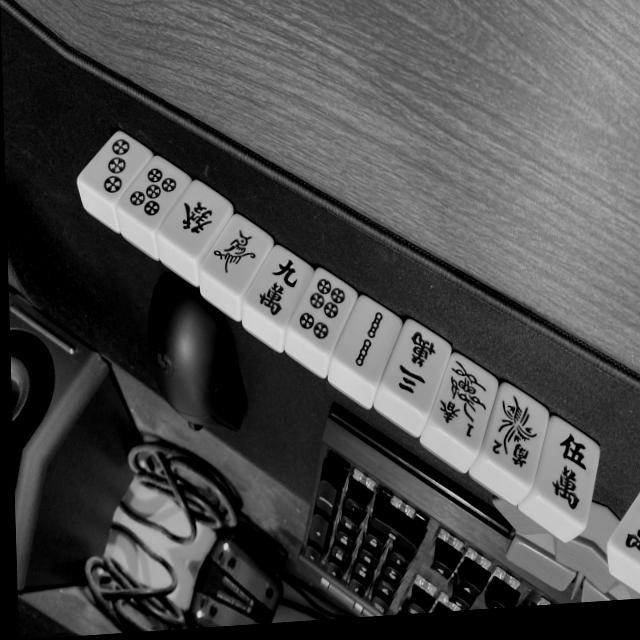f2: (477, 384, 554, 486)
fa: (163, 181, 232, 257)
ff1: (424, 354, 503, 449)
m3: (377, 321, 453, 413)
m5: (529, 418, 607, 529)
m9: (245, 246, 316, 328)
s1: (203, 215, 271, 292)
s2: (333, 295, 406, 381)
t3: (80, 129, 150, 208)
t5: (121, 155, 187, 230)
t6: (287, 268, 359, 352)
